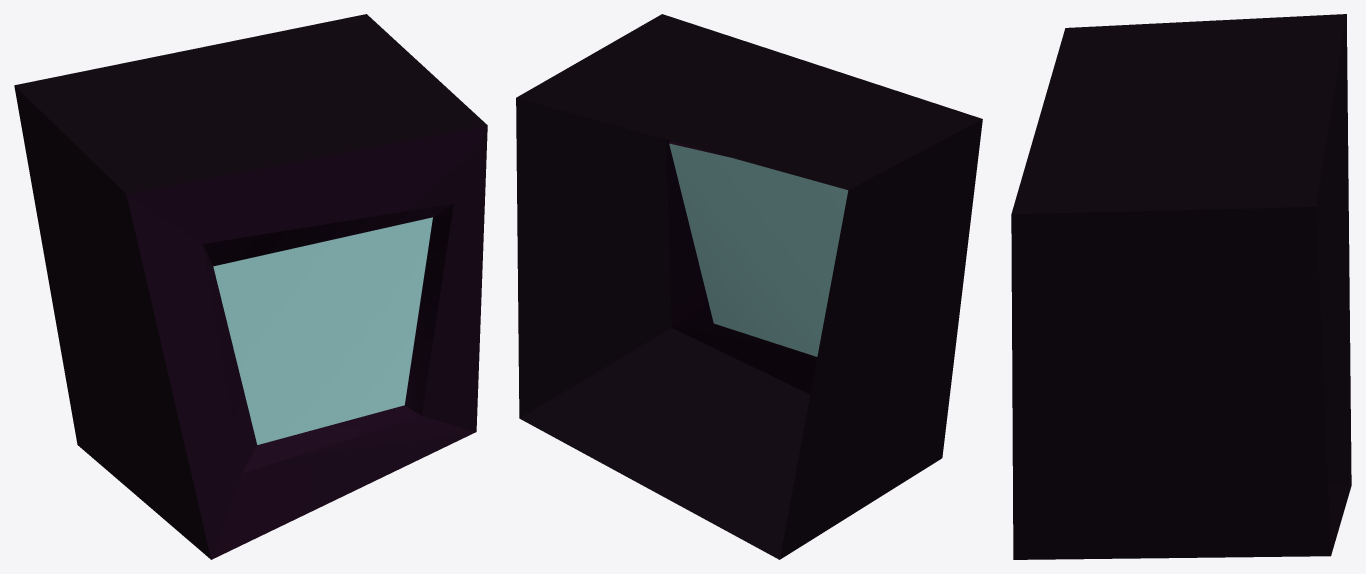
Rendered from c_house_window_square_aa.fbx.
The picture shows the model from 3 angles, left to right: view 1: azimuth 30°, elevation 25°; view 2: azimuth 150°, elevation 25°; view 3: azimuth 270°, elevation 25°; orthographic projection. The views are drawn at different scales.
Visible parts, largest first — view 1: c_house_window_square_aa; view 2: c_house_window_square_aa; view 3: c_house_window_square_aa.
Boxes of the visible parts, x1,y1,x2,y2 form: c_house_window_square_aa: (14,14,487,559); c_house_window_square_aa: (516,14,982,559); c_house_window_square_aa: (1011,14,1351,559).
Size of the model in its own units: 1.1 by 1.14 by 0.8017.
